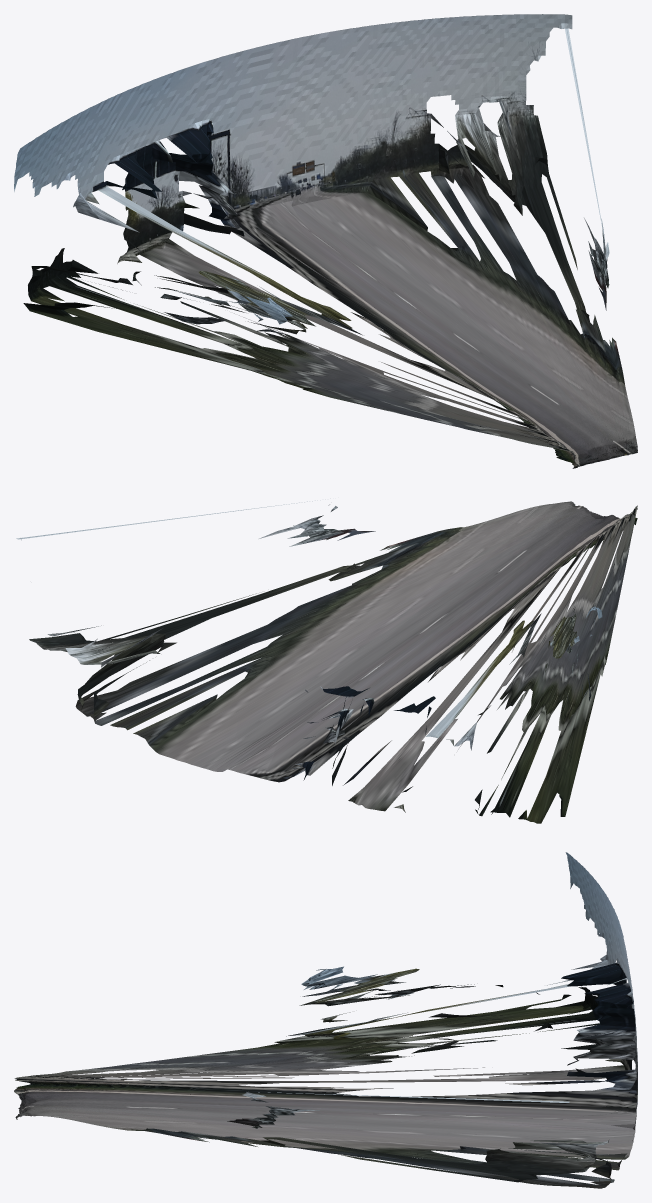
The picture shows the model from 3 angles, top to bottom: view 1: azimuth 30°, elevation 25°; view 2: azimuth 150°, elevation 25°; view 3: azimuth 270°, elevation 25°; orthographic projection. The views are drawn at different scales.
Parts seen in each view (by area): view 1: defaultobject; view 2: defaultobject; view 3: defaultobject.
Part boxes in pixels (box(x1,y1,x2,y2)): defaultobject: box(14, 14, 637, 468); defaultobject: box(16, 498, 637, 823); defaultobject: box(14, 852, 637, 1188).
Size of the model in its own units: 40.73 by 12.47 by 44.64.
1 material, 1 textured.
